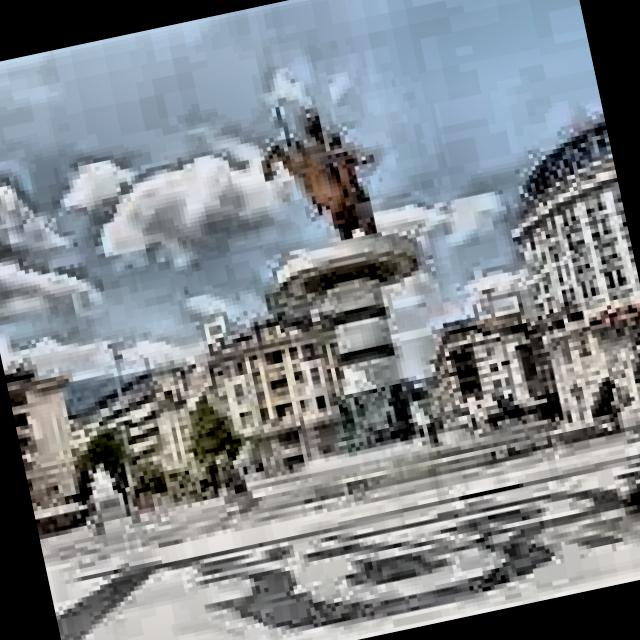alexander the great monument: (237, 78, 471, 500)
